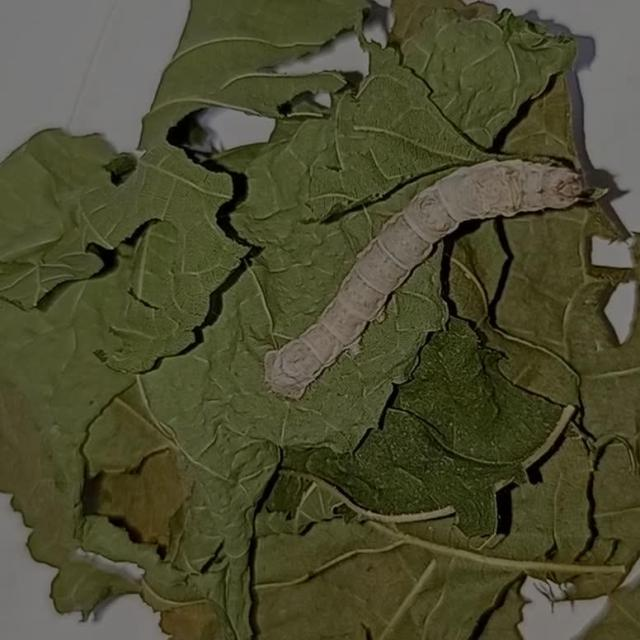Healthy: (254, 125, 606, 419)
